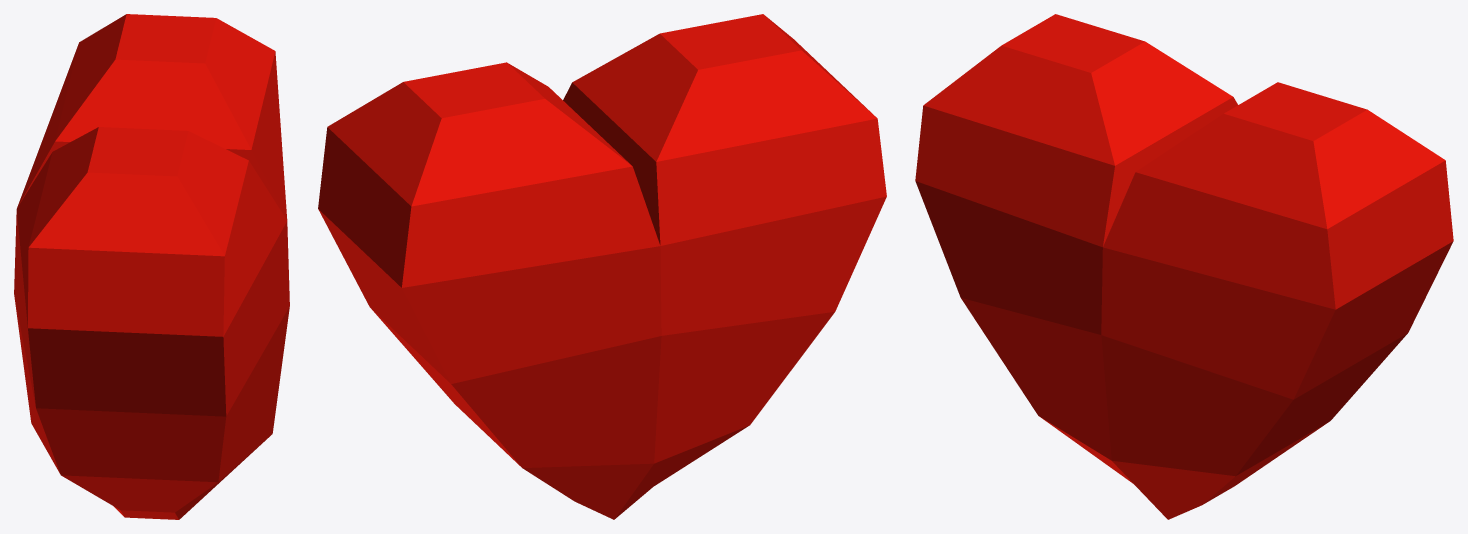
File: heart.glb
3 views of the same model, side by side, from view 1: azimuth 30°, elevation 25°; view 2: azimuth 150°, elevation 25°; view 3: azimuth 270°, elevation 25° (orthographic). The views are drawn at different scales.
Parts seen in each view (by area): view 1: Cube; view 2: Cube; view 3: Cube.
Boxes of the visible parts, x1=… form: Cube: x1=14, y1=14, x2=289, y2=519; Cube: x1=318, y1=14, x2=886, y2=519; Cube: x1=915, y1=14, x2=1453, y2=519.
Bounding box in the file's own units: 1.61 × 1.65 × 1.86.
